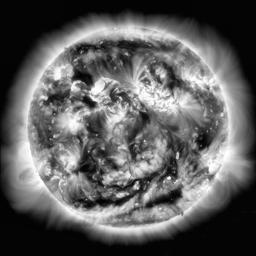solar flares: (134, 82, 175, 115), (180, 67, 211, 92), (62, 112, 86, 135), (202, 141, 219, 169), (94, 76, 110, 103), (111, 147, 129, 167), (64, 150, 80, 171), (109, 108, 130, 124), (48, 63, 66, 81)
sunspots: (84, 195, 136, 211), (154, 61, 179, 88), (80, 150, 100, 179), (155, 189, 182, 208), (85, 112, 104, 139), (75, 68, 94, 90), (42, 90, 70, 104), (120, 39, 144, 55), (138, 173, 155, 194), (128, 129, 140, 158), (80, 94, 100, 108), (165, 157, 178, 177), (197, 129, 212, 146), (135, 112, 151, 126), (170, 137, 184, 152), (80, 42, 95, 53)
